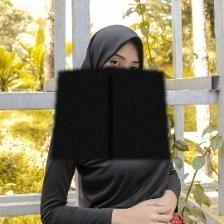Cadar_Niqab: (51, 20, 171, 159)
